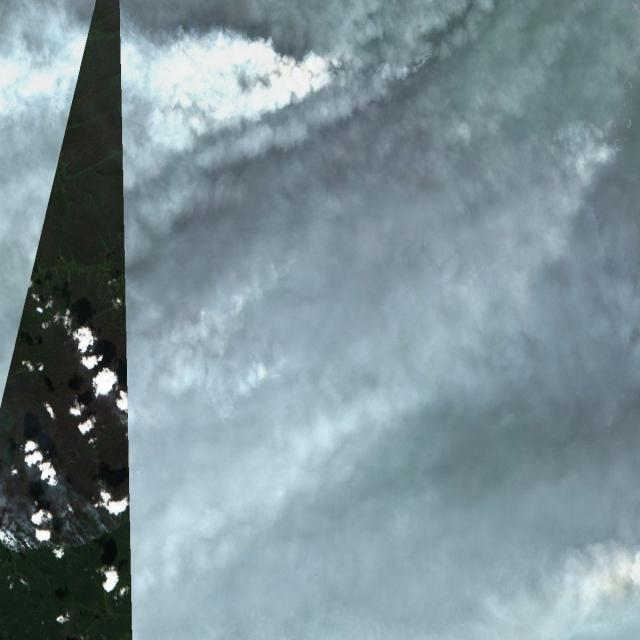fire: (2, 495, 124, 562)
